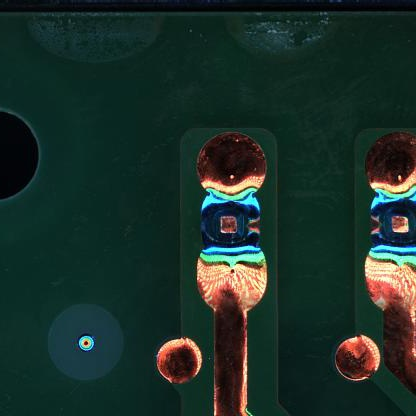spot: (198, 185, 262, 257), (368, 188, 416, 252)
